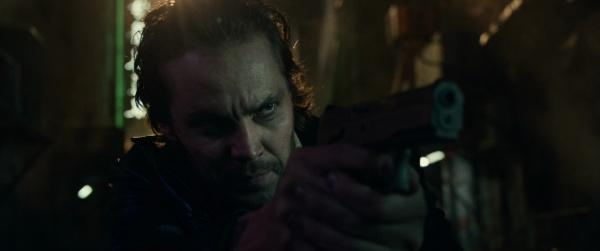Gun: (317, 83, 466, 186)
